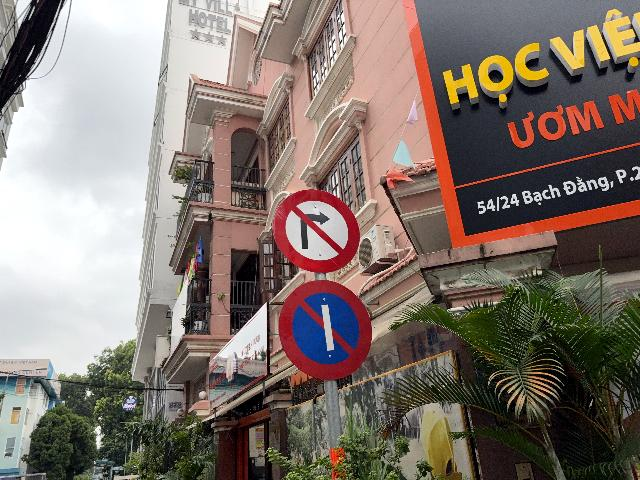cam-do-xe-ngay-le: (279, 279, 372, 380)
cam-re-phai: (272, 189, 361, 273)
